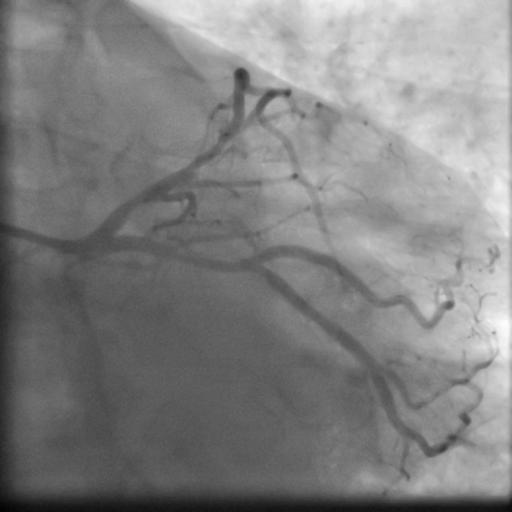Stenosis: (122, 189, 158, 210)
